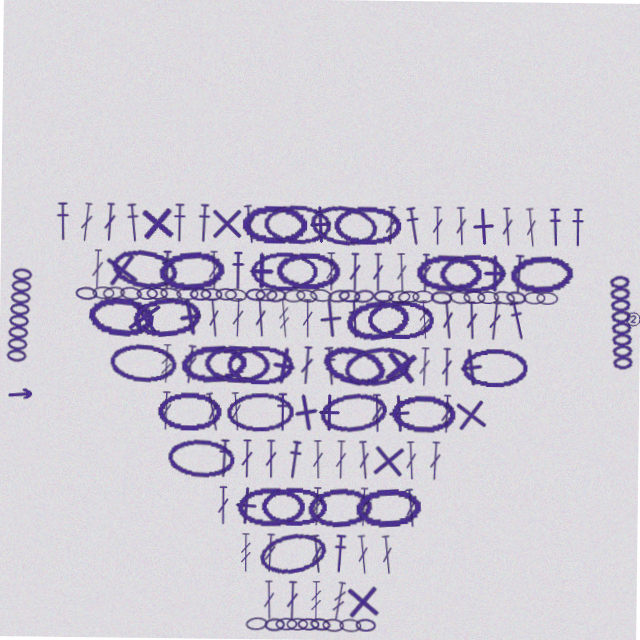chain: (259, 528, 333, 579), (319, 340, 391, 392), (342, 341, 414, 391), (108, 247, 179, 296), (307, 201, 379, 249), (343, 295, 413, 343), (319, 389, 390, 436), (131, 296, 202, 341), (86, 296, 155, 341), (308, 485, 377, 529), (156, 250, 225, 294), (109, 344, 179, 387), (356, 485, 424, 528), (180, 344, 248, 387), (168, 439, 237, 481), (508, 251, 575, 293), (227, 392, 295, 433), (204, 345, 272, 386), (262, 204, 330, 245), (438, 251, 505, 292), (239, 487, 307, 527), (227, 346, 295, 385), (367, 299, 435, 338), (250, 252, 318, 291), (332, 205, 400, 244), (392, 393, 458, 433), (415, 252, 481, 292), (263, 487, 329, 526), (158, 393, 224, 432), (462, 346, 528, 385), (275, 252, 341, 291), (240, 205, 306, 244), (492, 287, 516, 304), (159, 288, 182, 304), (295, 288, 318, 304), (327, 288, 350, 304), (448, 288, 471, 304), (249, 617, 272, 632), (102, 288, 125, 303), (119, 288, 142, 303), (309, 288, 332, 303), (313, 617, 335, 632), (353, 288, 375, 303), (505, 288, 527, 303), (224, 289, 247, 303), (397, 289, 420, 303), (326, 618, 348, 632), (343, 618, 365, 632), (75, 289, 97, 303), (265, 289, 287, 303), (283, 289, 305, 303), (388, 289, 410, 303), (430, 289, 452, 303), (268, 618, 289, 632), (279, 618, 301, 631), (290, 618, 312, 631), (301, 618, 323, 631), (92, 289, 114, 302), (136, 289, 158, 302), (146, 289, 168, 302), (176, 289, 198, 302), (189, 289, 211, 302), (200, 289, 222, 302), (215, 289, 237, 302), (255, 289, 277, 302), (338, 289, 360, 302), (412, 289, 434, 302), (463, 289, 485, 302), (477, 289, 499, 302), (523, 289, 545, 302), (536, 289, 558, 302), (359, 618, 380, 631), (245, 289, 266, 302), (373, 289, 394, 302)
double: (204, 393, 224, 433), (311, 534, 328, 574), (77, 205, 94, 245), (240, 205, 257, 245), (358, 534, 374, 574), (382, 534, 398, 574), (405, 487, 421, 527), (183, 346, 199, 386), (206, 299, 222, 339), (440, 298, 456, 338), (487, 299, 503, 339), (522, 205, 538, 245), (358, 440, 374, 479), (230, 393, 245, 432), (300, 346, 315, 385), (253, 299, 268, 338), (101, 205, 116, 244), (499, 205, 514, 244), (266, 534, 280, 573), (312, 487, 326, 526), (359, 487, 373, 526), (406, 440, 420, 479), (430, 440, 444, 479), (160, 393, 174, 432), (371, 393, 385, 432), (441, 393, 455, 432), (418, 346, 432, 385), (231, 299, 245, 338), (465, 299, 479, 338), (90, 252, 104, 291), (394, 252, 408, 291), (418, 252, 432, 291), (383, 205, 397, 244), (453, 205, 467, 244), (266, 581, 279, 620), (289, 581, 302, 620), (219, 487, 232, 526), (242, 440, 255, 479), (266, 440, 279, 479), (313, 440, 326, 479), (336, 440, 349, 479), (441, 346, 454, 385), (301, 299, 314, 338), (207, 252, 220, 291), (324, 252, 337, 291), (348, 252, 361, 291), (371, 252, 384, 291), (430, 205, 443, 244)
enseble_chain: (5, 271, 33, 368), (607, 271, 635, 368)
half_double: (506, 298, 529, 339), (402, 205, 423, 245), (287, 440, 305, 480), (322, 346, 340, 386), (123, 205, 141, 245), (334, 534, 351, 573), (346, 299, 363, 338), (218, 440, 234, 479), (510, 252, 526, 291), (195, 205, 211, 244), (546, 205, 562, 244), (276, 393, 291, 432), (159, 252, 174, 291), (230, 252, 245, 291), (54, 205, 69, 244), (171, 205, 186, 244), (569, 205, 584, 244)
noise: (8, 392, 35, 403), (624, 306, 640, 324)
single: (285, 390, 330, 435), (168, 296, 213, 341), (450, 391, 494, 435), (262, 344, 306, 388), (122, 297, 166, 341), (99, 250, 143, 294), (450, 344, 493, 387), (309, 297, 352, 340), (345, 580, 387, 622), (369, 439, 411, 481), (380, 345, 422, 387), (135, 204, 177, 246), (228, 486, 269, 527), (380, 392, 421, 433), (299, 204, 340, 245), (462, 204, 503, 245), (311, 393, 350, 432), (241, 252, 280, 291), (475, 252, 514, 291), (206, 205, 245, 244)
treble: (333, 581, 352, 621), (276, 299, 292, 338), (417, 299, 432, 338), (160, 346, 174, 385), (313, 581, 326, 620), (242, 534, 255, 573)
